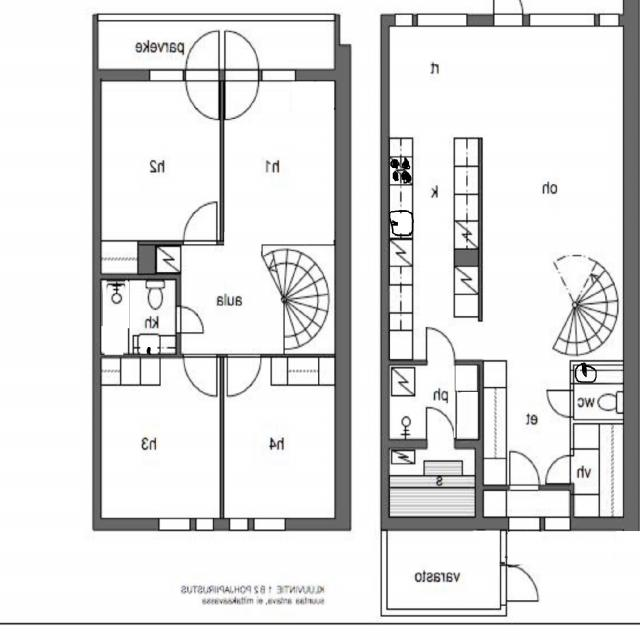door: (226, 69, 259, 120), (226, 31, 259, 81), (186, 69, 218, 119), (186, 32, 218, 81), (183, 354, 217, 396), (228, 353, 261, 396), (184, 202, 217, 244), (501, 565, 539, 601), (510, 450, 540, 490), (426, 408, 454, 448), (426, 329, 454, 365), (546, 455, 574, 483), (176, 306, 204, 334), (493, 0, 523, 26), (547, 390, 574, 417)
